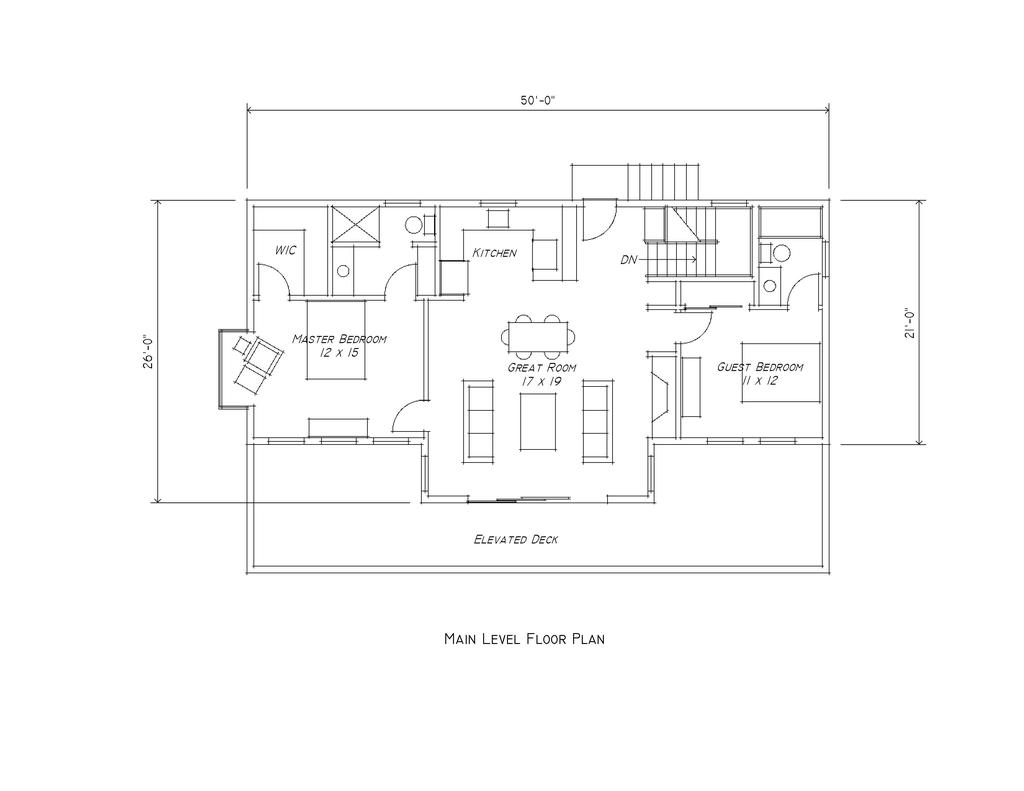door: (576, 197, 619, 242), (672, 308, 716, 347), (255, 255, 291, 302), (783, 271, 822, 310), (388, 396, 428, 434), (380, 263, 420, 295)
kitchen_bar: (499, 311, 575, 362)
large_sink: (400, 211, 438, 237), (761, 239, 793, 266)
large_sofa: (460, 378, 498, 470), (579, 376, 617, 465)
small_sink: (758, 266, 784, 307), (332, 246, 354, 294)
small_sofa: (245, 334, 283, 377)
stairs: (638, 207, 760, 282), (567, 158, 710, 202)
windows: (703, 432, 799, 447), (419, 449, 432, 499)
